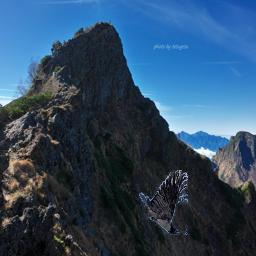Crow: (139, 170, 188, 235)
